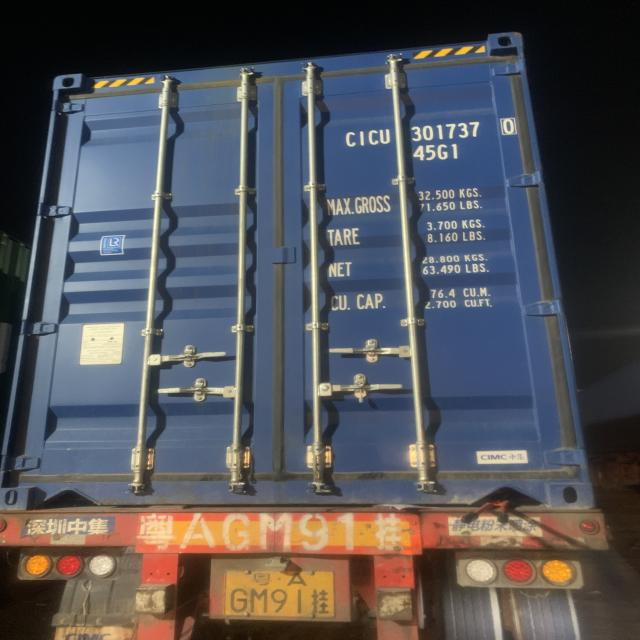seal: (355, 380, 369, 403)
